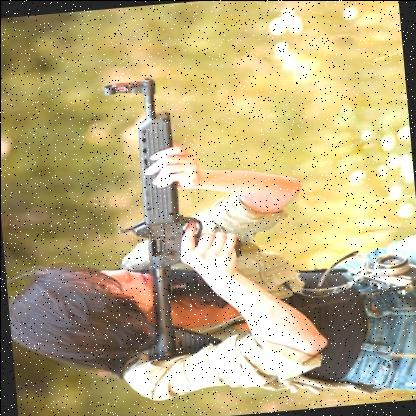rifle: (102, 63, 255, 366)
